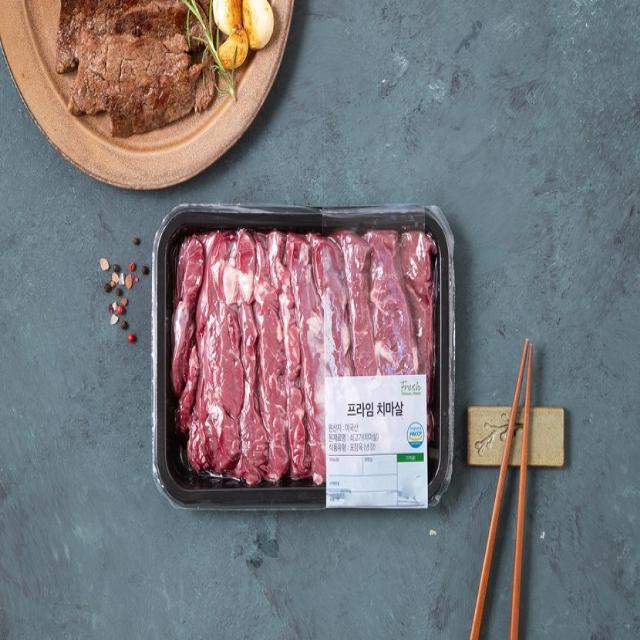beef: (160, 211, 453, 515)
